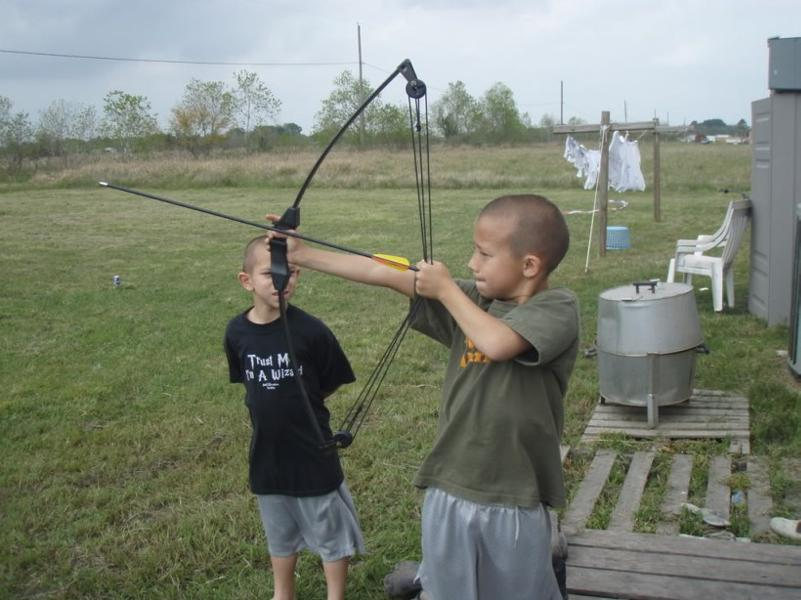person: (265, 194, 584, 600)
